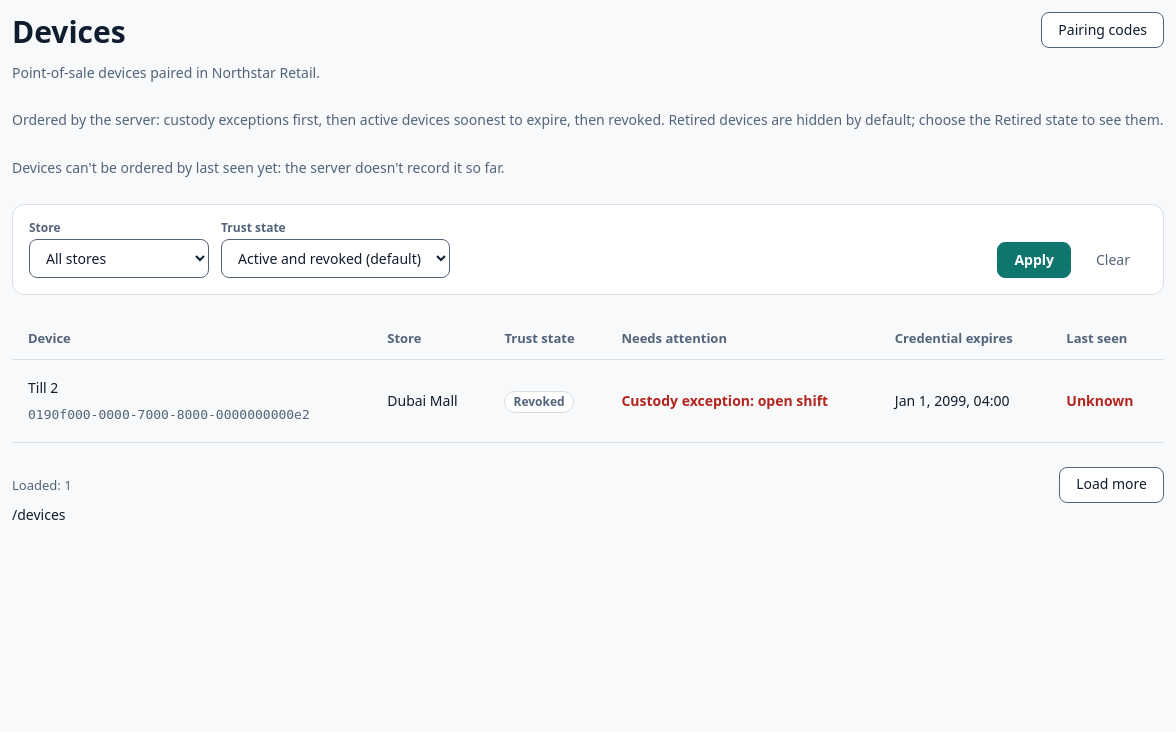
Scenario: DeviceList (RT-371) › a failed continuation keeps the loaded rows and retries the next page
This screenshot has width=1176, height=732.
Click the button "Load more" at (1112, 485), box [1059,467,1164,503]
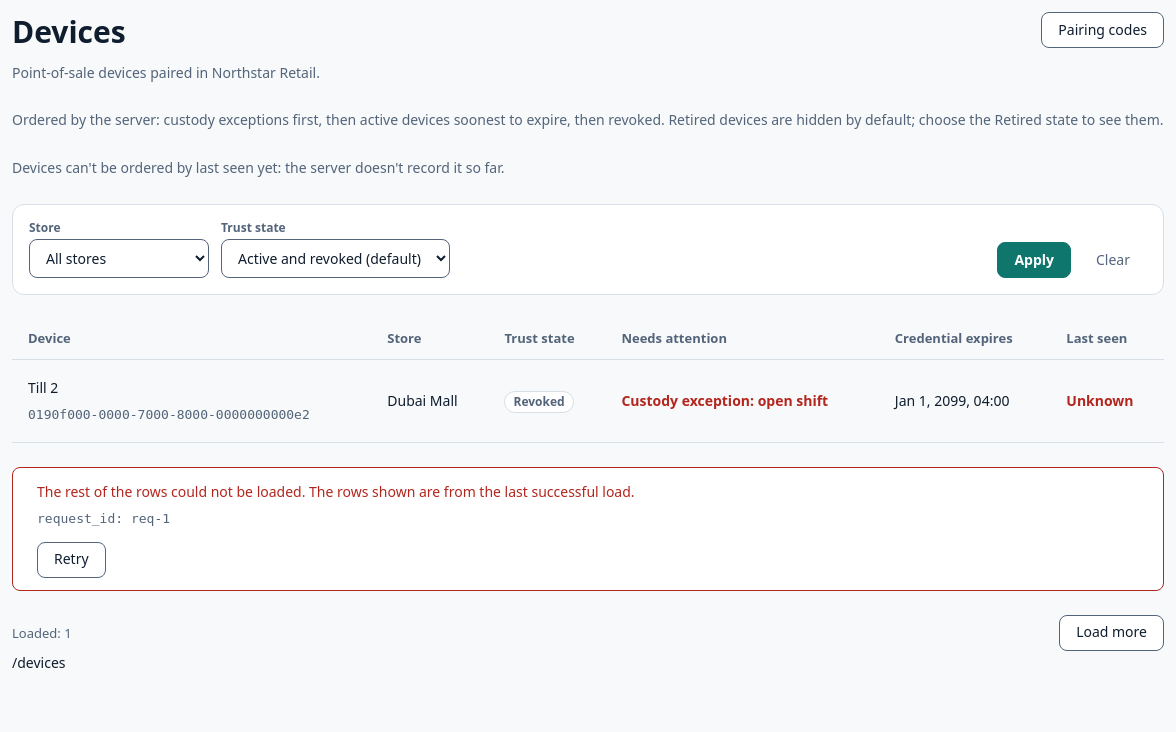
Expected: the text "Till 2" is shown, [28,378,58,397]
Now the text "The rest of the rows could not be loaded" is shown, box [37,482,635,501]
Click the button "Retry" at (71, 560), box [37,542,106,578]
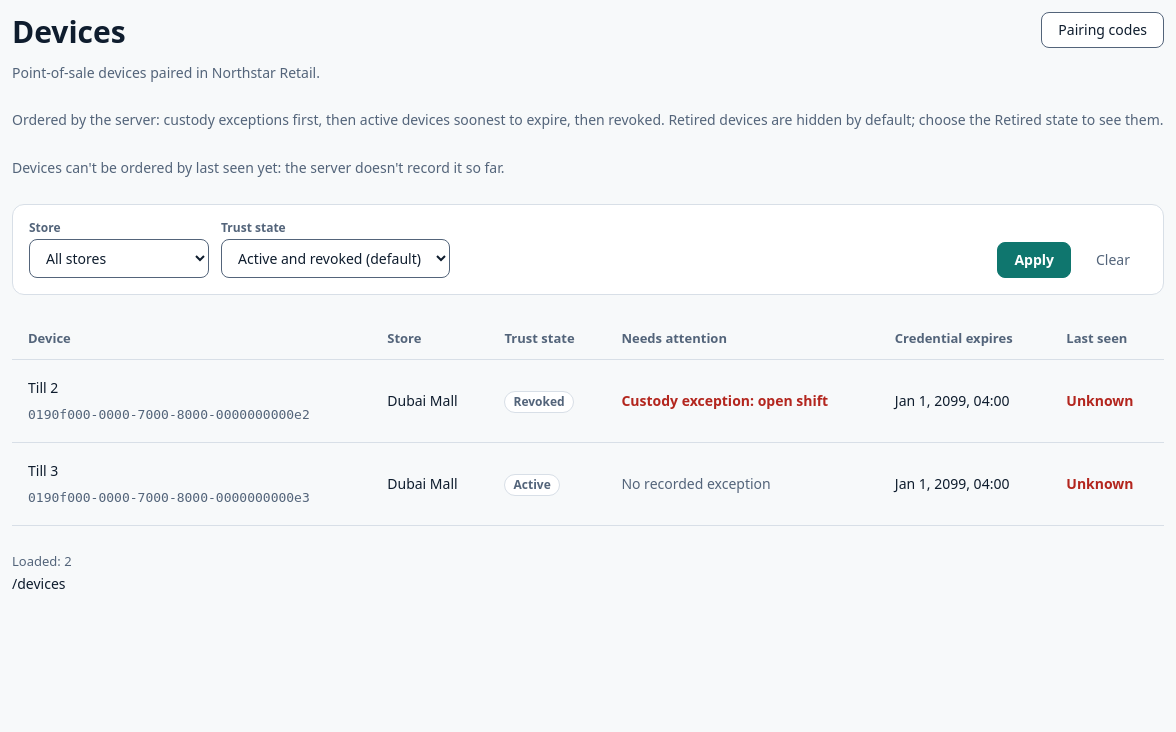
Now the text "Till 3" is shown, box [28,461,58,480]
Now the text "Loaded: 2" is shown, box [12,550,72,572]
